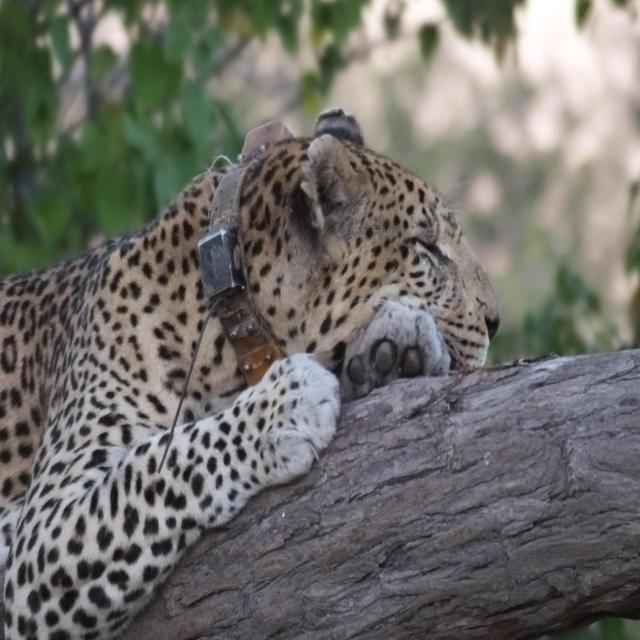Leopard: (0, 87, 538, 638)
